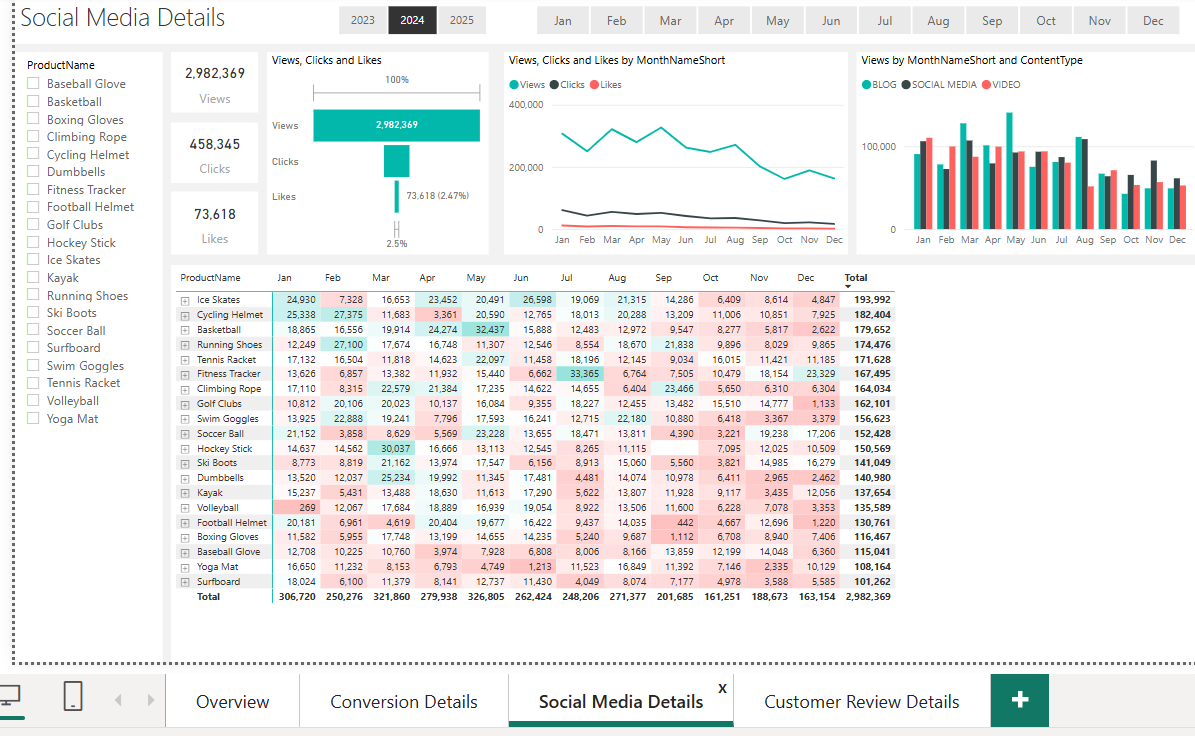

The page's visual inventory and layout, read from the dashboard file:
{"tool":"powerbi","page":{"name":"Social Media Details","canvas":[1280,720],"ordinal":2},"visuals":[{"type":"textbox","box":[0,0,1280,52.6],"z":0},{"type":"slicer","fields":{"Values":["dim_products.ProductName"]},"box":[0,61.6,159.5,658.5],"z":1000},{"type":"lineChart","fields":{"Y":["_Calculations.Views","_Calculations.Clicks","_Calculations.Likes"],"Category":["Calendar.MonthNameShort"]},"box":[528.5,61.9,371.6,218.8],"z":2000},{"type":"funnel","fields":{"Y":["_Calculations.Views","_Calculations.Clicks","_Calculations.Likes"]},"box":[272.5,61.9,239.5,218.8],"z":3000},{"type":"card","fields":{"Values":["_Calculations.Views"]},"box":[168.3,61.9,93.9,65],"z":4000},{"type":"card","fields":{"Values":["_Calculations.Clicks"]},"box":[168.3,137.3,93.9,65],"z":5000},{"type":"card","fields":{"Values":["_Calculations.Likes"]},"box":[168.3,212.6,93.9,68.1],"z":6000},{"type":"slicer","fields":{"Values":["Calendar.MonthNameShort"]},"box":[536.8,4.1,743.2,44.4],"z":7000},{"type":"slicer","fields":{"Values":["Calendar.Year"]},"box":[324.1,4.1,208.5,44.4],"z":8000},{"type":"pivotTable","fields":{"Rows":["dim_products.ProductName","fact_engagement.ContentType"],"Values":["_Calculations.Views"],"Columns":["Calendar.MonthNameShort"]},"box":[168.3,292.1,1110.7,428.4],"z":9000},{"type":"clusteredColumnChart","fields":{"Category":["Calendar.MonthNameShort"],"Series":["fact_engagement.ContentType"],"Y":["_Calculations.Views"]},"box":[908.4,61.9,370.6,218.8],"z":10000}]}

Visuals, with their boxes on the page's 1280x720 design canvas (x1, y1, x2, y2). These are canvas units, not pixel positions in the 1195x736 screenshot, which may show the page scaled, cropped or inside an application window:
textbox: pyautogui.locateOnScreen(0, 0, 1280, 53)
slicer - dim_products.ProductName: pyautogui.locateOnScreen(0, 62, 160, 720)
lineChart - _Calculations.Views x _Calculations.Clicks: pyautogui.locateOnScreen(528, 62, 900, 281)
funnel - _Calculations.Views x _Calculations.Clicks: pyautogui.locateOnScreen(272, 62, 512, 281)
card - _Calculations.Views: pyautogui.locateOnScreen(168, 62, 262, 127)
card - _Calculations.Clicks: pyautogui.locateOnScreen(168, 137, 262, 202)
card - _Calculations.Likes: pyautogui.locateOnScreen(168, 213, 262, 281)
slicer - Calendar.MonthNameShort: pyautogui.locateOnScreen(537, 4, 1280, 48)
slicer - Calendar.Year: pyautogui.locateOnScreen(324, 4, 533, 48)
pivotTable - dim_products.ProductName x fact_engagement.ContentType: pyautogui.locateOnScreen(168, 292, 1279, 720)
clusteredColumnChart - Calendar.MonthNameShort x fact_engagement.ContentType: pyautogui.locateOnScreen(908, 62, 1279, 281)
